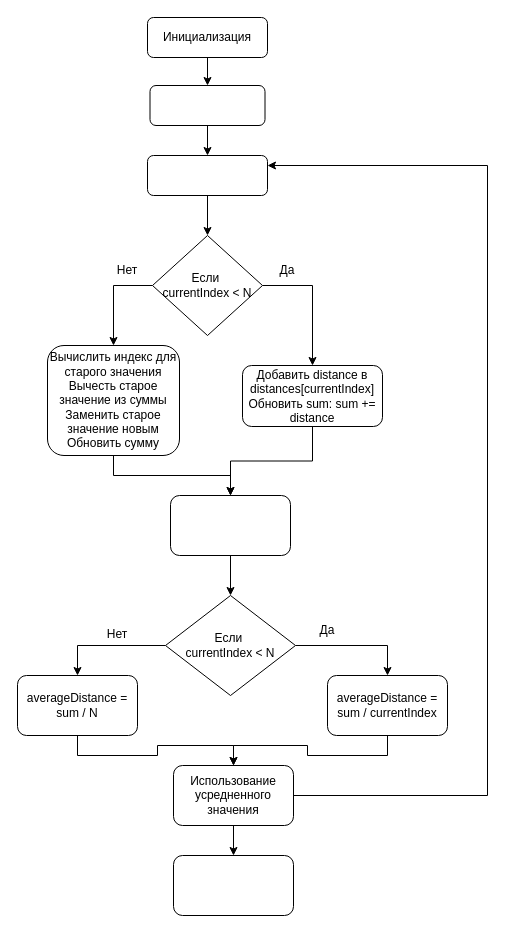
The diagram is 513 pixels wide and 933 high, and some of its shapes have lost their labels. Each missing label, with the centre of its shape:
"Конец" goes at point (233, 885).
"Обновление индекса" goes at point (230, 525).
"Обновление массива и суммы" goes at point (207, 175).
"Считывание расстояния" goes at point (207, 105).
